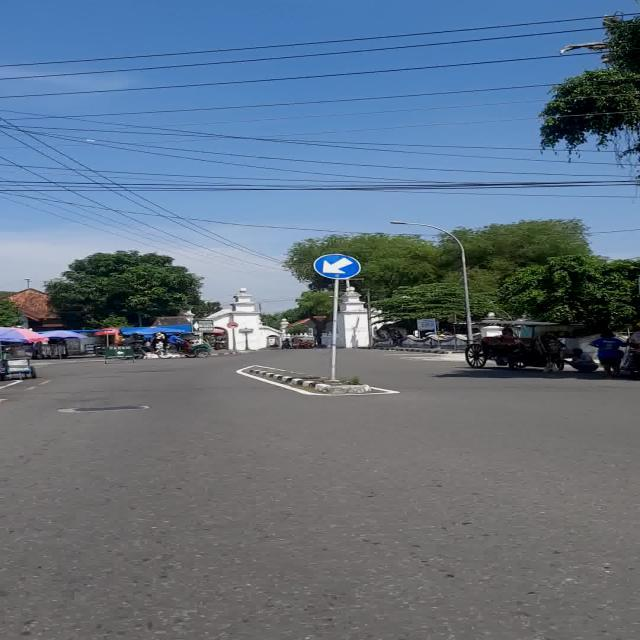Lajur Kiri: (313, 253, 361, 280)
